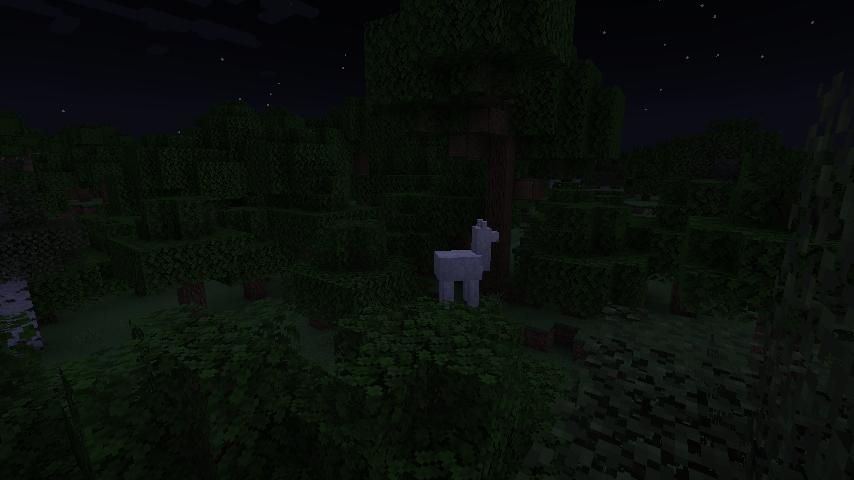llama: (432, 218, 502, 313)
